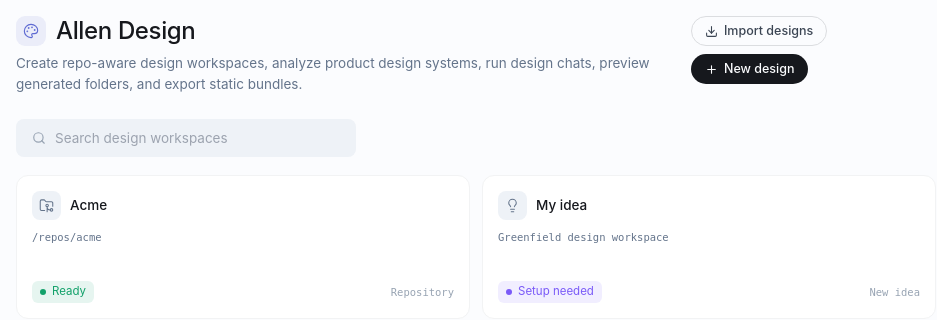
DesignStudioPage › lists workspaces with their status
expect the heading "Allen Design" is shown: met, box [56,17,195,45]
expect the text "Acme" is shown: met, box [70,197,107,213]
Type "greenfield" into the search field labelled "Search design workspaces" at x=198, y=138, box [55,130,340,146]
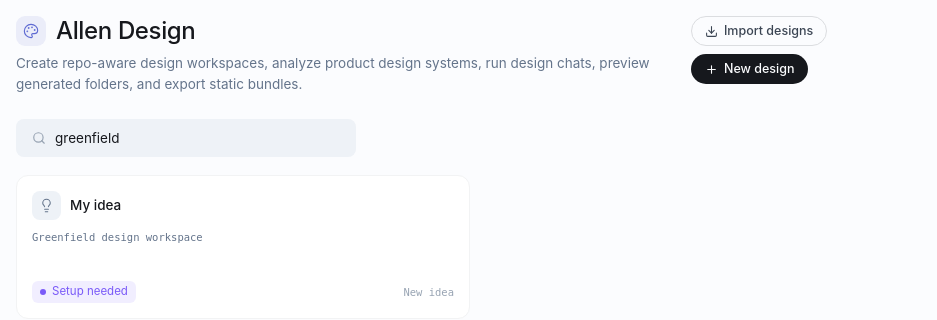
expect the text "My idea" is shown: met, box [70,197,121,213]
expect the text "Acme" is gone: met
